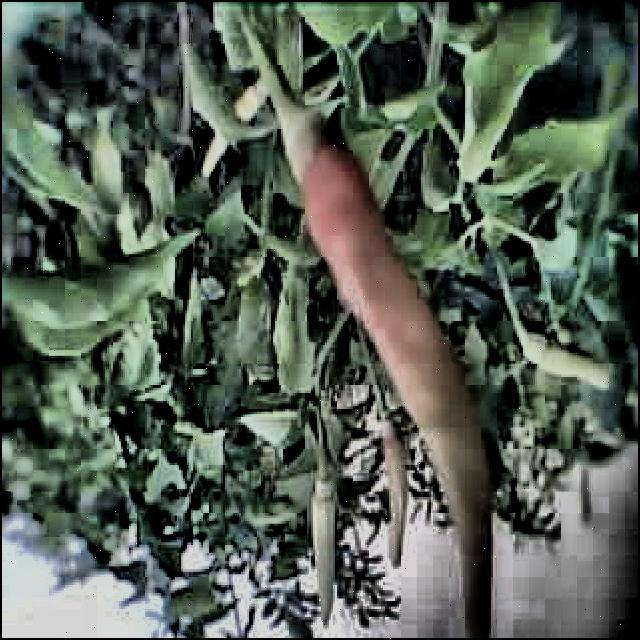Cabai: (310, 125, 398, 370), (373, 423, 422, 568)
